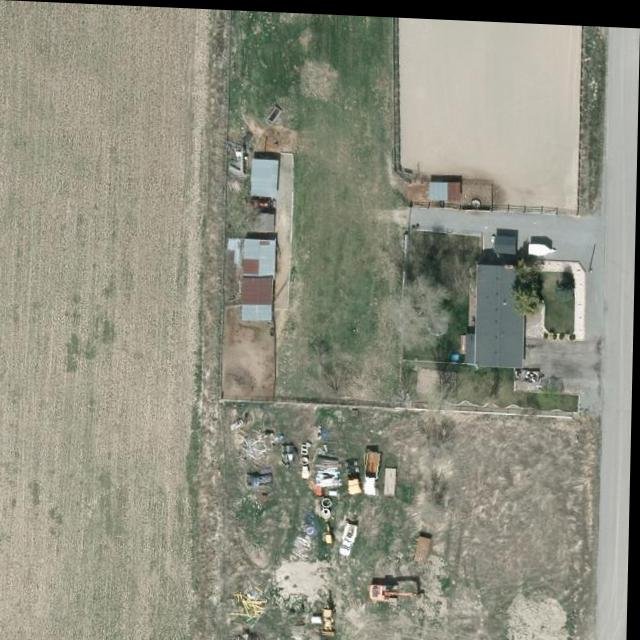vehicle: (362, 446, 386, 496), (345, 456, 367, 493), (342, 518, 359, 557), (245, 470, 277, 488)
